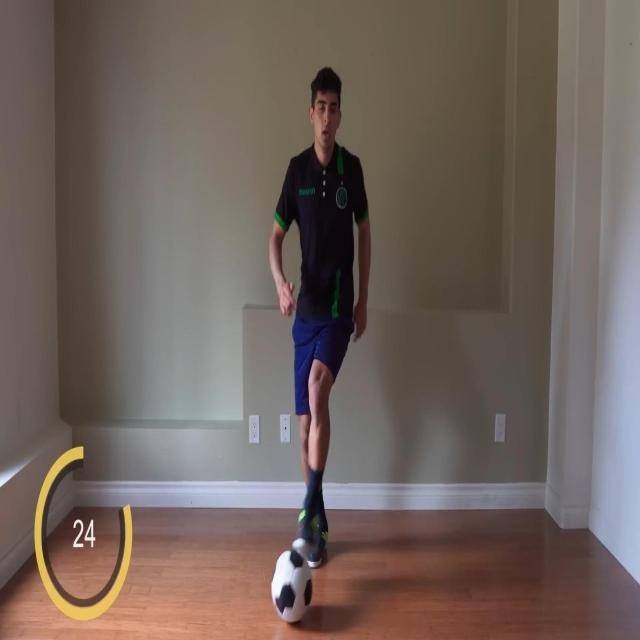Soccer Ball: (271, 549, 313, 624)
